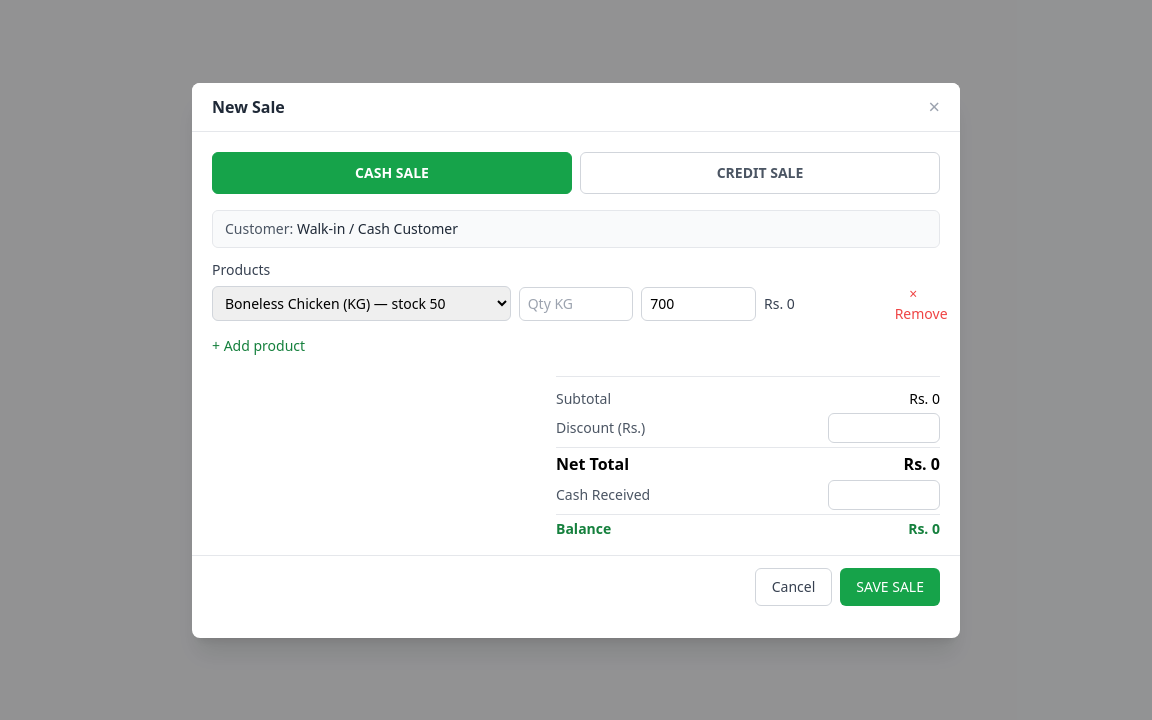
Test: NewSaleModal — Cash Sale › saves a cash sale by creating and confirming the order, then shows the success screen
This screenshot has width=1152, height=720.
Expected: the text "Walk-in / Cash Customer" is shown, [297, 218, 458, 238]
Select "Boneless Chicken (KG) — stock 50" in the dropdown named "Product" at (361, 304), box [212, 286, 511, 321]
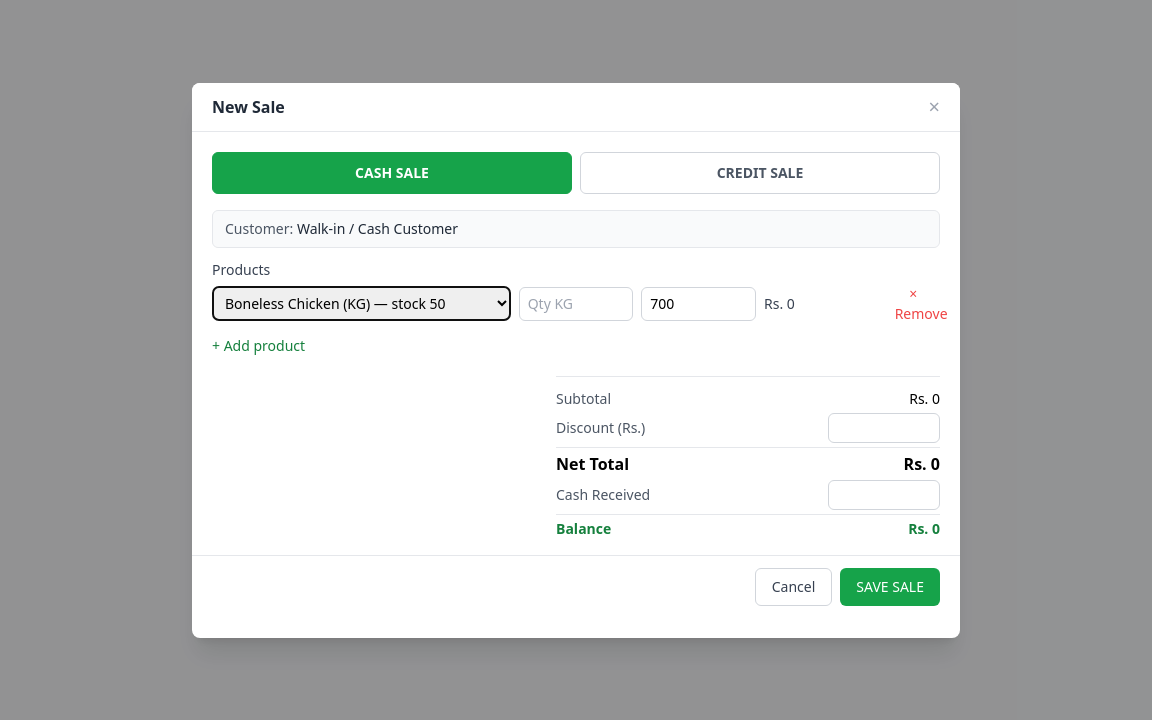
Type "5" into the number field named "Quantity".
click(576, 304); type("5")  # box [519, 286, 633, 320]
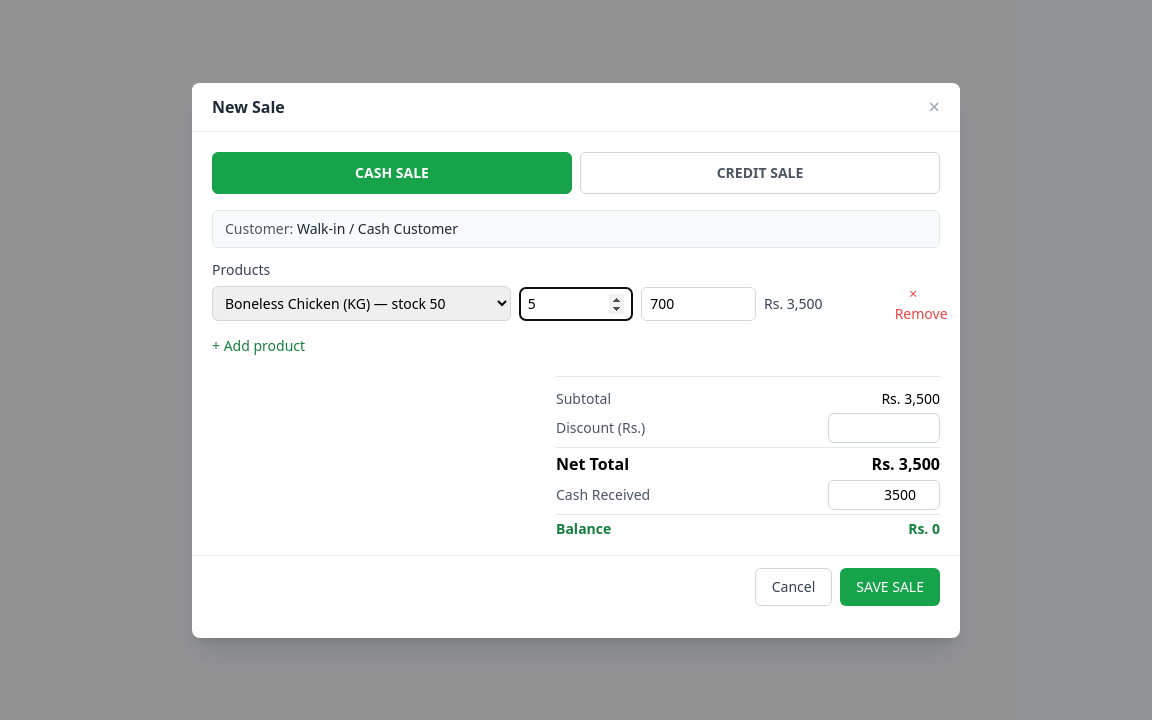
Click the button "SAVE SALE".
click(890, 586)  # box [840, 568, 940, 606]
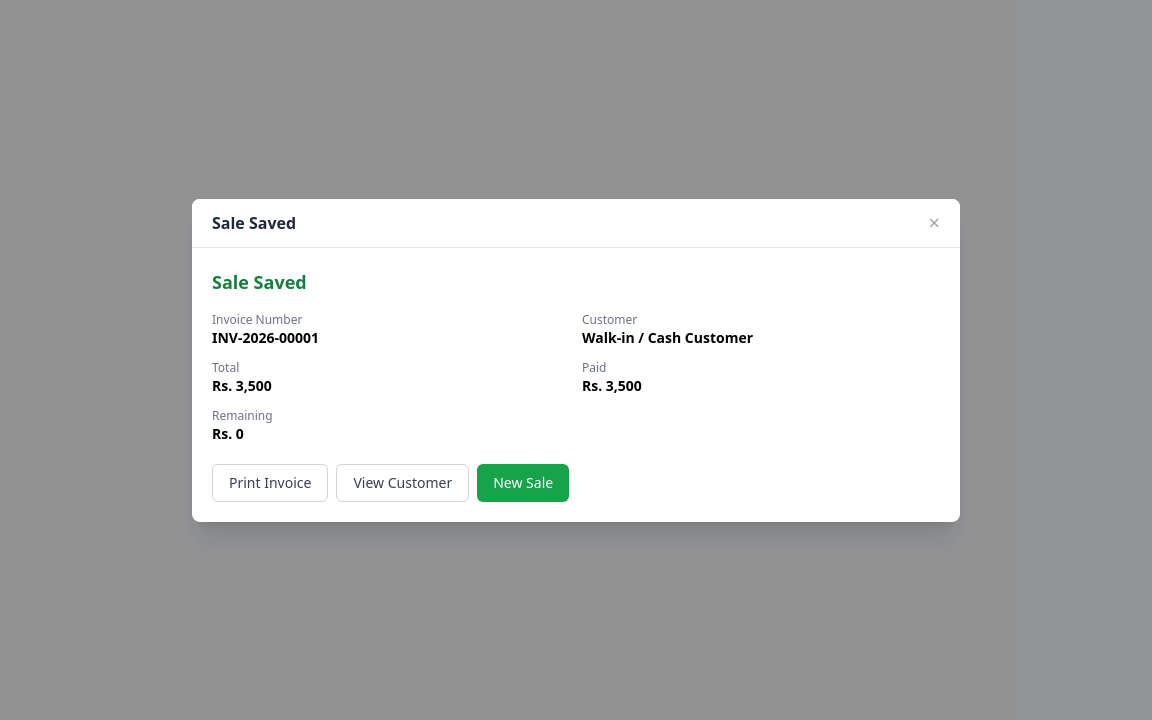
Expected: the text "Invoice Number" is shown, [212, 310, 302, 328]
Expected: the text "INV-2026-00001" is shown, [212, 328, 319, 346]
Expected: the text "Customer" shows "Walk-in / Cash Customer", [582, 328, 753, 346]
